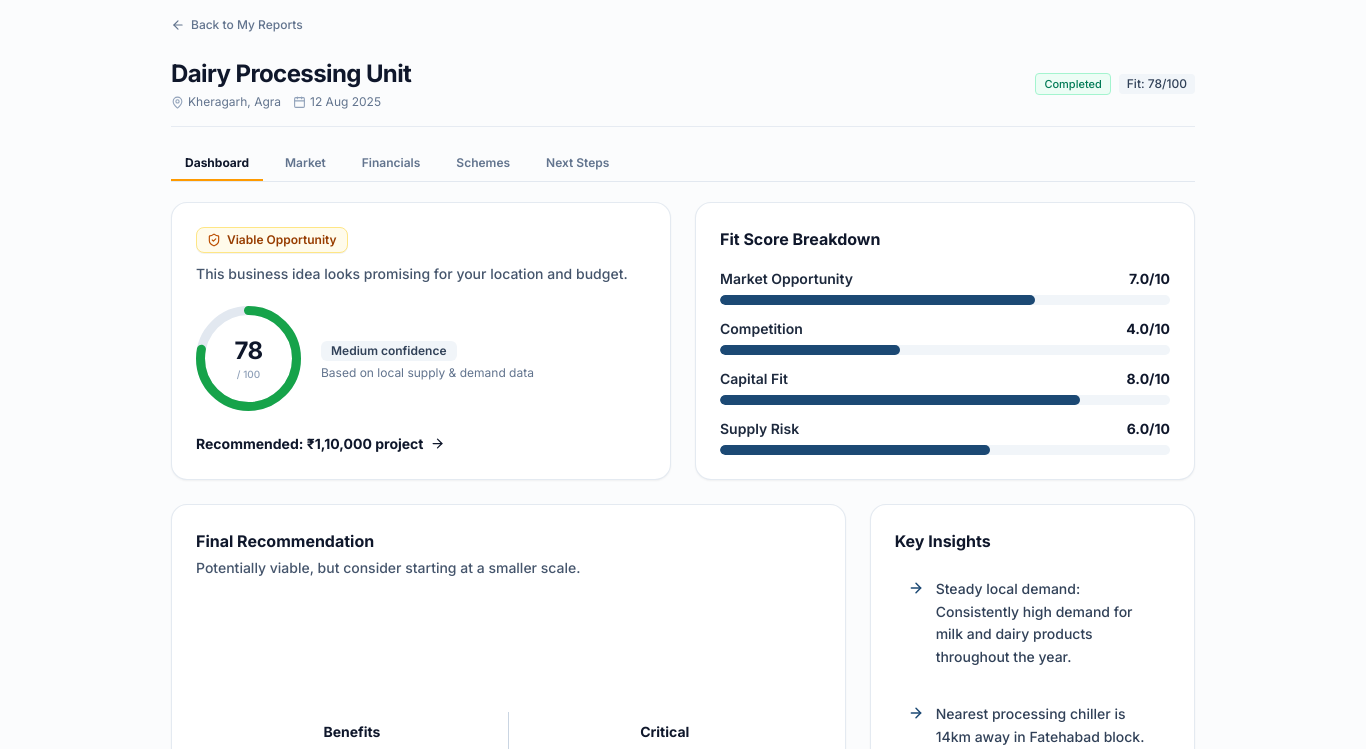
Test case: ReportScreen (Feasibility Dashboard) › switches to Market tab and displays market snapshot & risks
Step 1. Click the button "Market" → (305, 164), box [271,147,340,181]
(page scrolled)
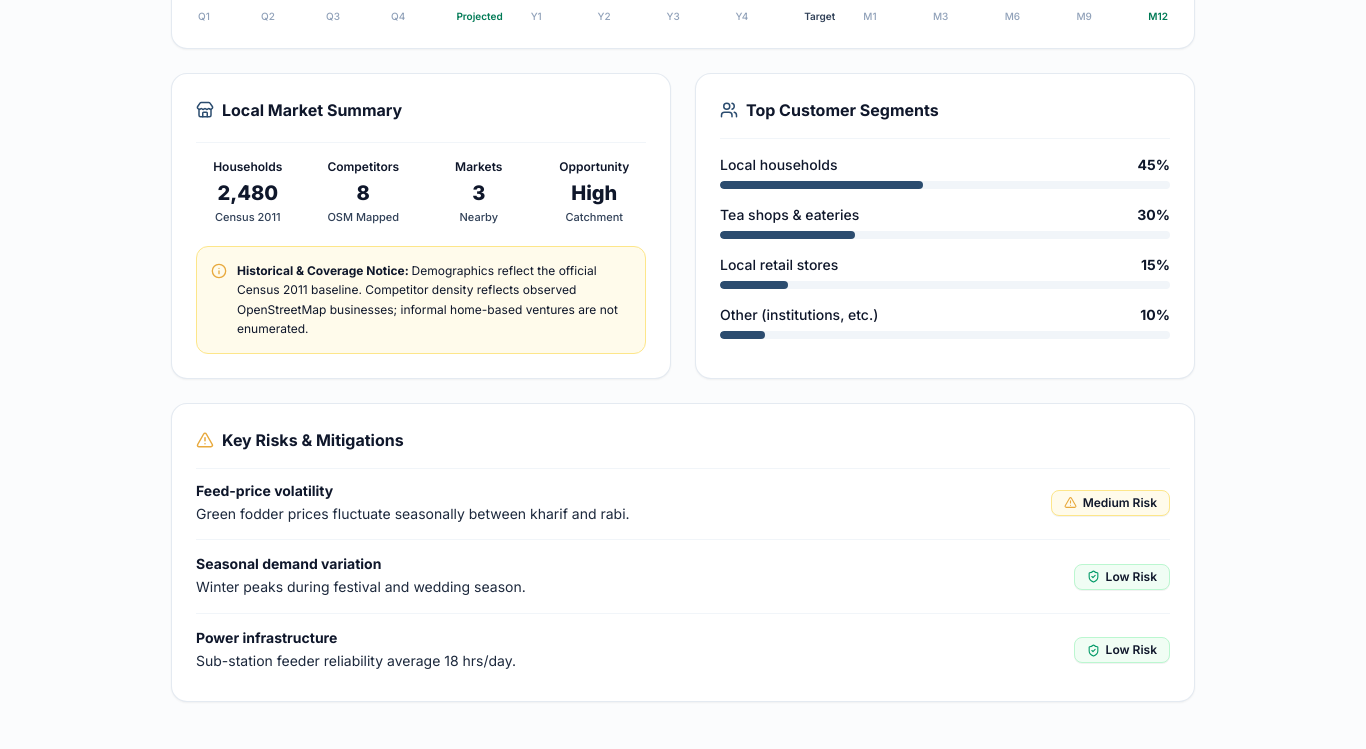
Check: the heading "Local Market Summary" is shown, box [222,98,402,122]
Check: the heading "Key Risks & Mitigations" is shown, box [222,428,404,452]
Check: the heading "Feed-price volatility" is shown, box [196,482,333,498]
